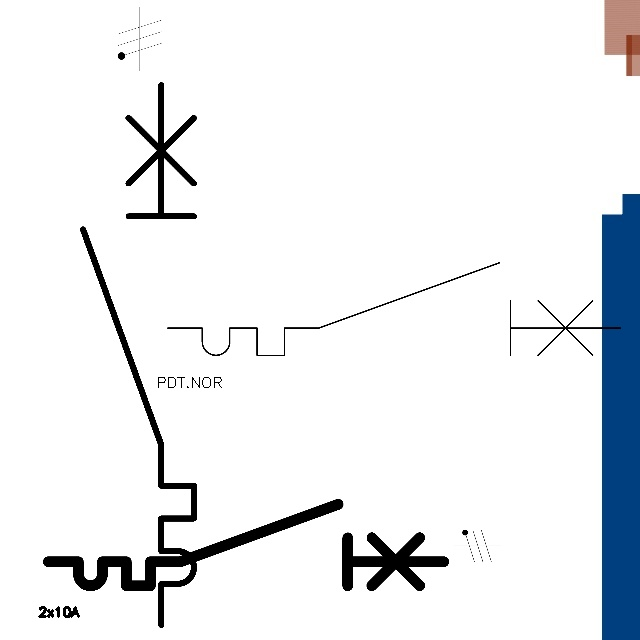interruptor_termomagnetico: (69, 71, 208, 639), (156, 251, 632, 367), (38, 494, 454, 596)
